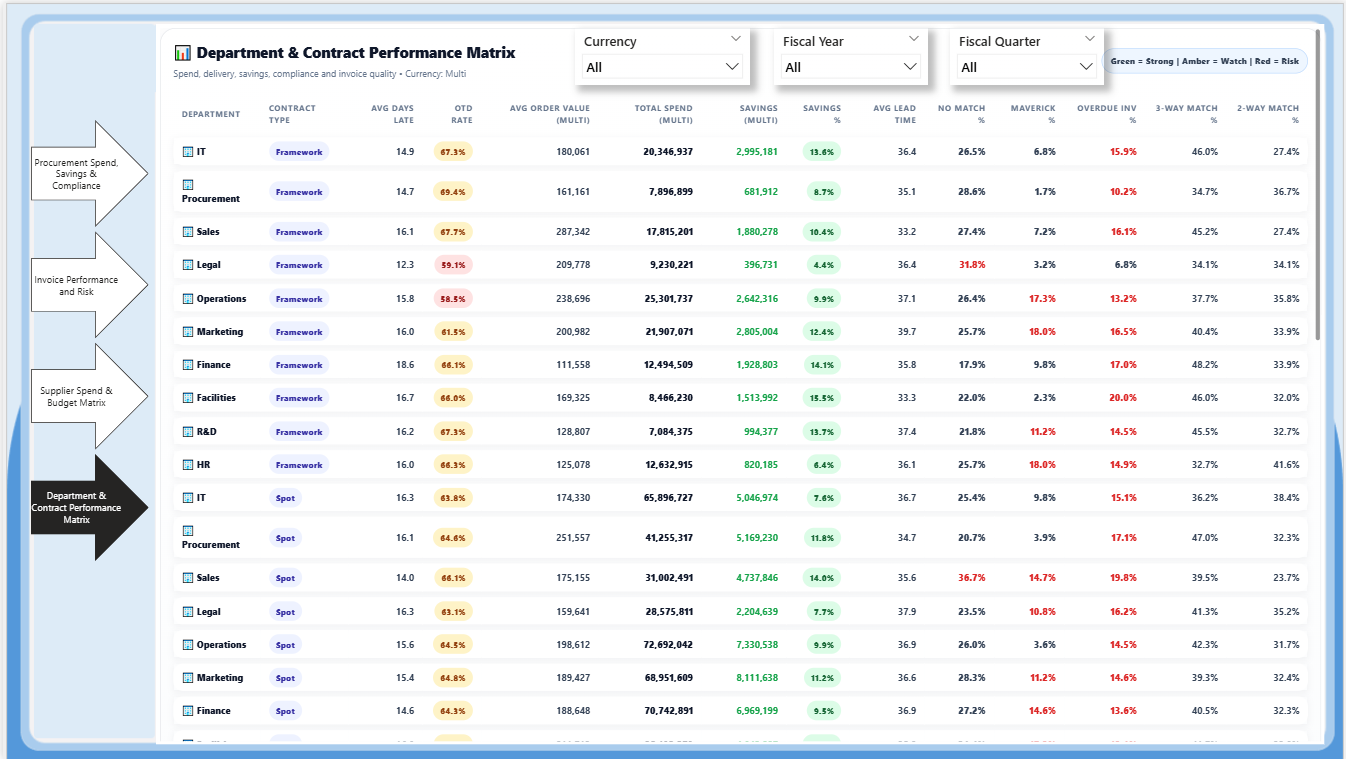

This screenshot's page, from the dashboard's own definition file:
{"tool":"powerbi","page":{"name":"Department & Contract Performance Matrix","canvas":[1920,1080],"ordinal":3},"visuals":[{"type":"htmlContent443BE3AD55E043BF878BED274D3A6855","fields":{"content":["Dax Measure.Department Contract Matrix HTML"]},"box":[218.6,30,1668.6,1028.6],"z":0},{"type":"pageNavigator","box":[40,167.1,168.6,632.9],"z":1000},{"type":"slicer","fields":{"Values":["Fact_Procurement.Currency"]},"box":[817.1,35.7,250,81.4],"z":2000},{"type":"slicer","fields":{"Values":["Dim_Date.Fiscal Year"]},"box":[1101.4,35.7,220,81.4],"z":3000},{"type":"slicer","fields":{"Values":["Dim_Date.Fiscal Quarter"]},"box":[1352.9,35.7,220,81.4],"z":4000}]}

Visuals, with their boxes in screenshot pixels (x1, y1, x2, y2), scaled from the page's 1920x1080 canvas onto the 1346x759 screenshot:
htmlContent443BE3AD55E043BF878BED274D3A6855 - Dax Measure.Department Contract Matrix HTML: region(153, 21, 1323, 744)
pageNavigator: region(28, 117, 146, 562)
slicer - Fact_Procurement.Currency: region(573, 25, 748, 82)
slicer - Dim_Date.Fiscal Year: region(772, 25, 926, 82)
slicer - Dim_Date.Fiscal Quarter: region(948, 25, 1103, 82)
